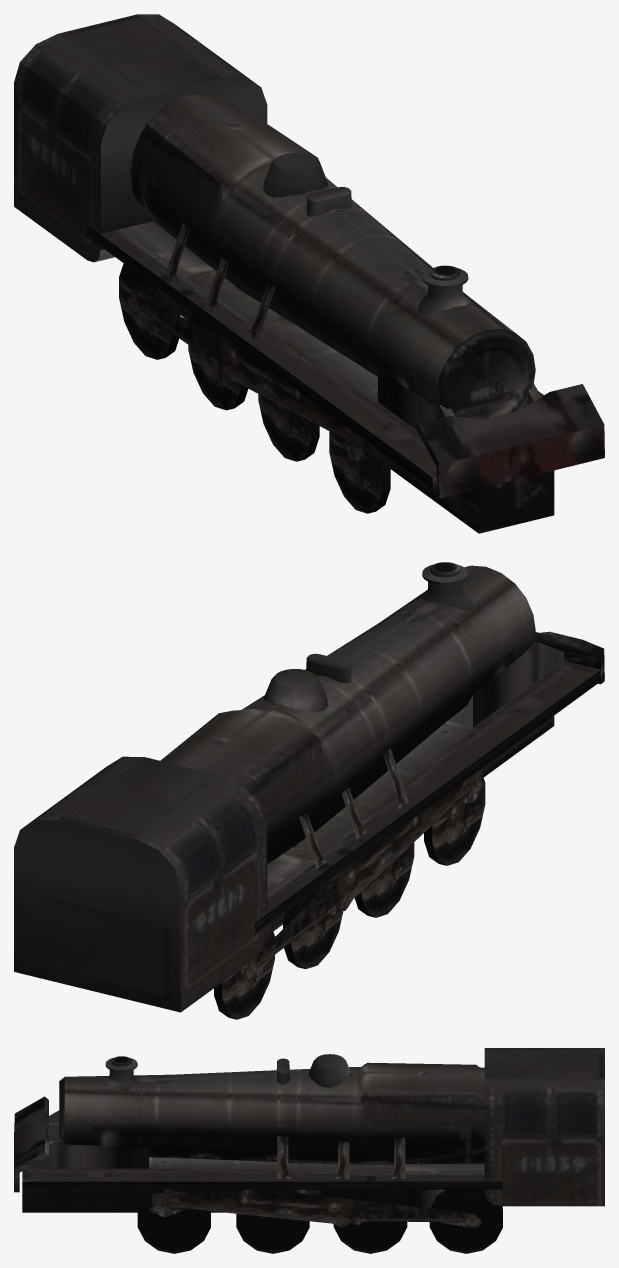
Rendered from lokomotiv.fbx.
3 renders of one model, top to bottom at view 1: azimuth 30°, elevation 25°; view 2: azimuth 150°, elevation 25°; view 3: azimuth 270°, elevation 25°, orthographic. The views are drawn at different scales.
Visible parts, largest first — view 1: Cube; view 2: Cube; view 3: Cube.
Part boxes in pixels (x1,y1,x2,y2): Cube: (14, 14, 604, 533); Cube: (14, 562, 604, 1019); Cube: (14, 1048, 604, 1253).
Size of the model in its own units: 132 by 192 by 579.
